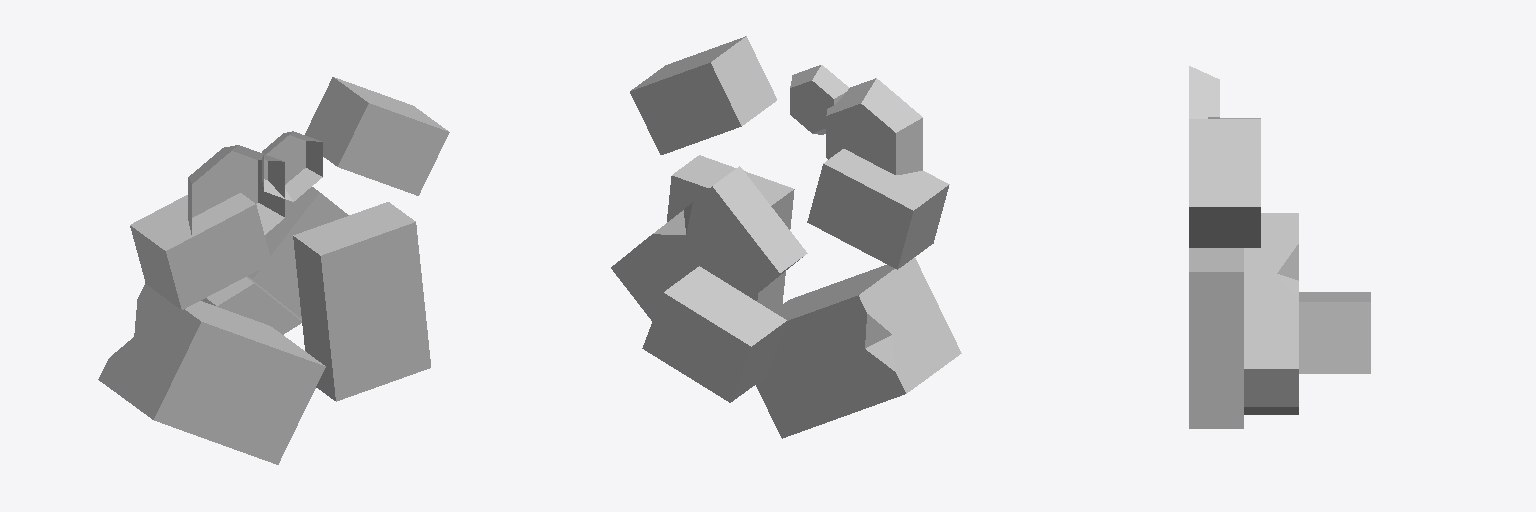
File: bricks.001.obj
The picture shows the model from 3 angles: view 1: azimuth 30°, elevation 25°; view 2: azimuth 150°, elevation 25°; view 3: azimuth 270°, elevation 25°; orthographic projection.
Visible parts, largest first — view 1: bricks; view 2: bricks; view 3: bricks.
Boxes of the visible parts, x1=… form: bricks: x1=98, y1=77, x2=449, y2=464; bricks: x1=611, y1=36, x2=961, y2=438; bricks: x1=1189, y1=66, x2=1370, y2=428.
Size of the model in its own units: 0.772 by 0.8469 by 0.4125.